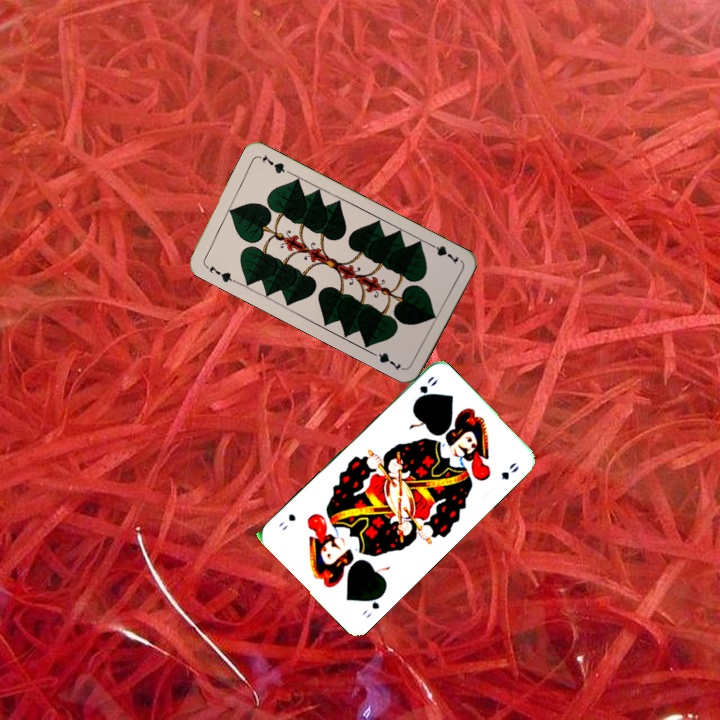G7: (424, 239, 462, 267), (200, 260, 238, 285)
GO: (409, 372, 440, 407), (358, 589, 386, 621)
